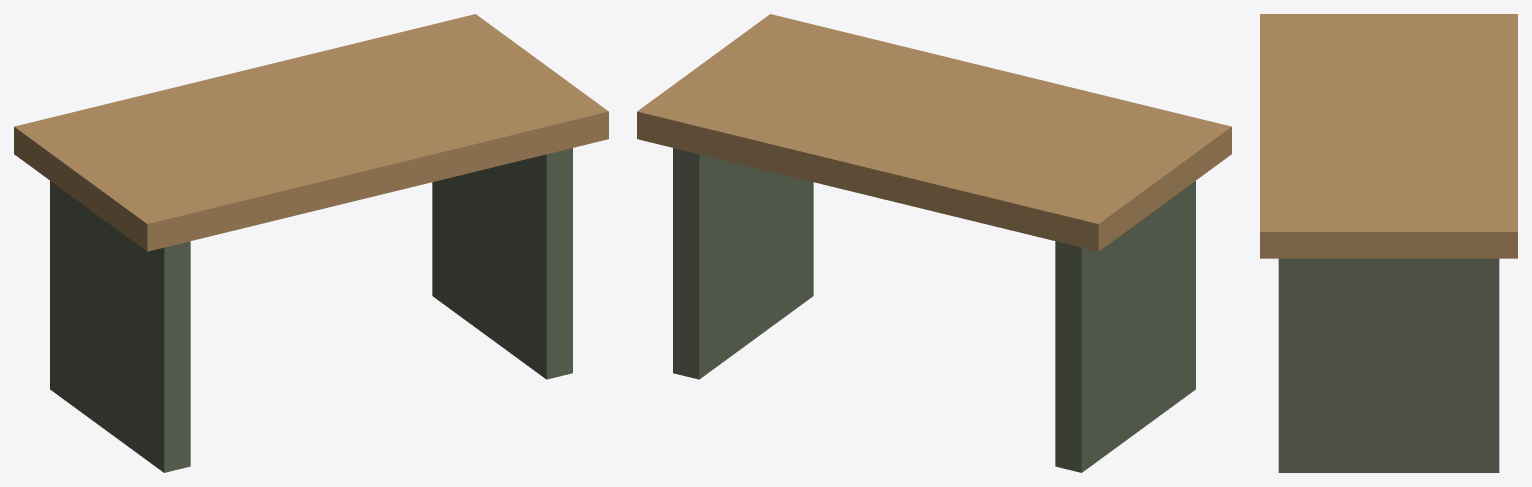
File: desk.glb
3 renders of one model, left to right at view 1: azimuth 30°, elevation 25°; view 2: azimuth 150°, elevation 25°; view 3: azimuth 270°, elevation 25°, orthographic. The views are drawn at different scales.
Size of the model in its own units: 1.4 by 0.76 by 0.7.
